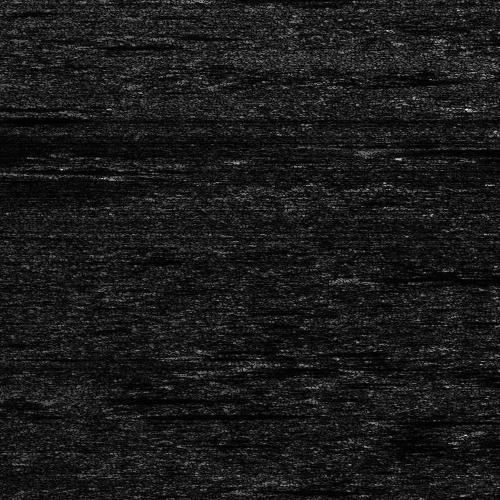object: (332, 147, 415, 156), (34, 394, 117, 403), (320, 273, 383, 282), (97, 412, 150, 419), (364, 415, 405, 424), (239, 486, 280, 491), (0, 165, 25, 172), (304, 142, 335, 147)
shadow: (352, 273, 500, 282), (76, 394, 207, 403), (374, 147, 500, 156), (385, 415, 482, 424), (124, 412, 233, 419), (0, 113, 69, 122), (0, 165, 84, 172), (260, 486, 377, 491), (0, 103, 46, 108), (320, 142, 351, 147)
